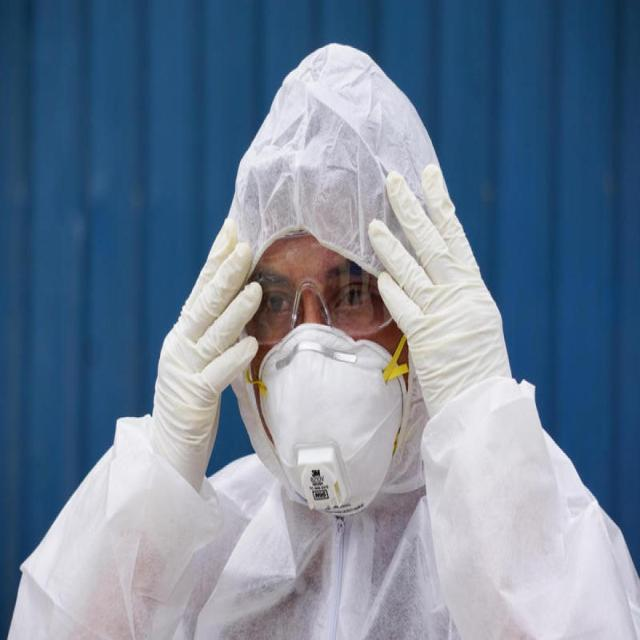Coverall: (18, 53, 625, 639)
Gloves: (347, 123, 508, 443), (132, 218, 274, 469)
Goggles: (219, 203, 404, 340)
Mask: (227, 313, 424, 519)
